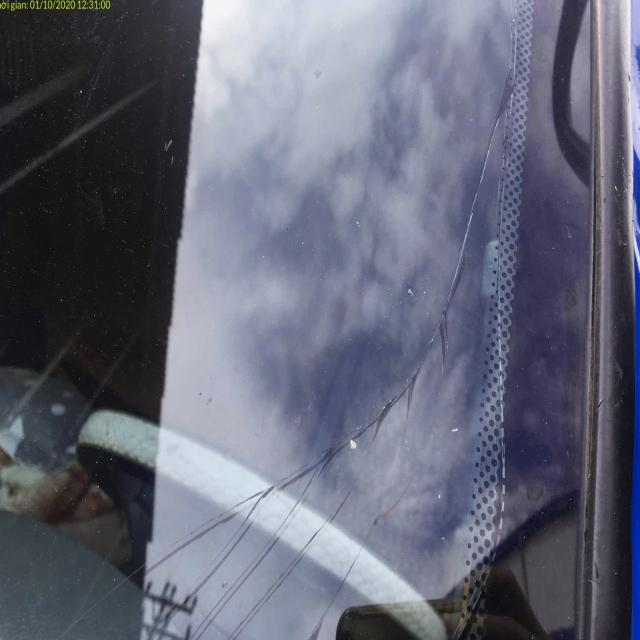Fissure: (45, 49, 518, 638), (221, 415, 392, 640), (39, 482, 261, 640), (308, 376, 427, 640), (185, 457, 334, 640), (133, 486, 270, 640)
